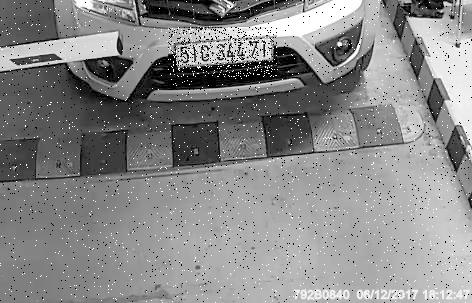License-plate: (169, 29, 278, 79)
